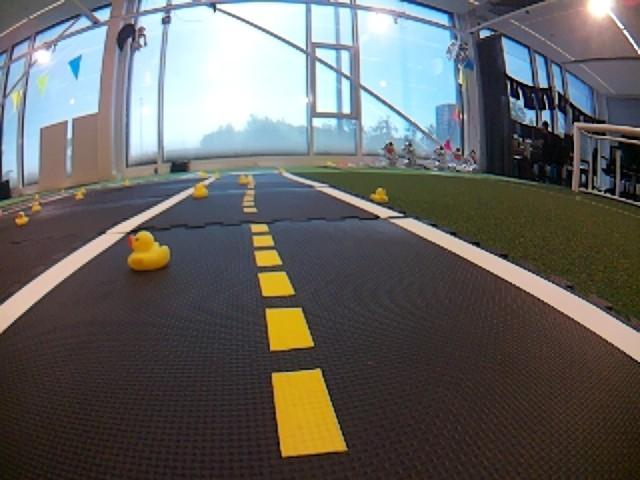Duckies: (128, 231, 168, 270), (370, 189, 387, 203), (14, 211, 29, 226), (193, 185, 207, 198), (31, 203, 42, 211), (238, 175, 248, 183), (75, 192, 84, 200), (279, 169, 285, 176), (33, 193, 39, 200), (124, 180, 130, 186), (80, 187, 86, 193), (215, 172, 220, 178), (199, 171, 206, 175)
